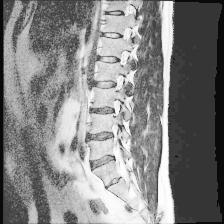disc: (96, 51, 125, 68), (100, 5, 130, 21), (93, 76, 121, 93), (100, 28, 128, 44)
hdisc: (87, 153, 119, 172), (90, 103, 120, 120), (85, 130, 116, 146)
